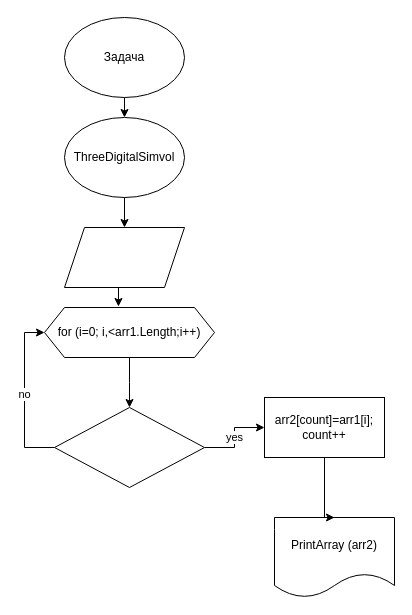
The diagram is 412 pixels wide and 615 high, and some of its shapes have lost their labels. The centre of each missing label's shape, as x and y in pixels:
"if(arr1[i].Length <=3)" goes at (x=129, y=447).
"string[] arr1 string[] arr2 int count = 0" goes at (x=124, y=257).
